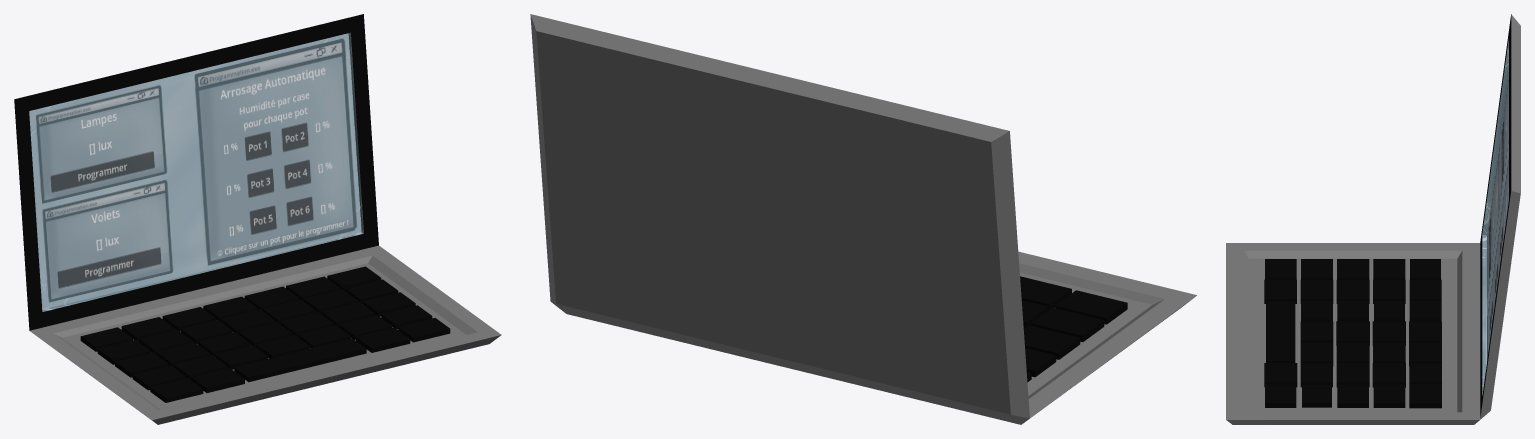
The model's file is Ordinateur.glb.
3 renders of one model, left to right at view 1: azimuth 30°, elevation 25°; view 2: azimuth 150°, elevation 25°; view 3: azimuth 270°, elevation 25°, orthographic. The views are drawn at different scales.
Visible parts, largest first — view 1: Plan.001; view 2: Plan.001; view 3: Plan.001.
Boxes of the visible parts, bbox=[...] form: Plan.001: bbox=[14, 14, 501, 424]; Plan.001: bbox=[530, 14, 1196, 424]; Plan.001: bbox=[1226, 14, 1520, 424].
Bounding box in the file's own units: 7.31 × 4.58 × 5.14.
Materials: 3 (1 with a texture image).
